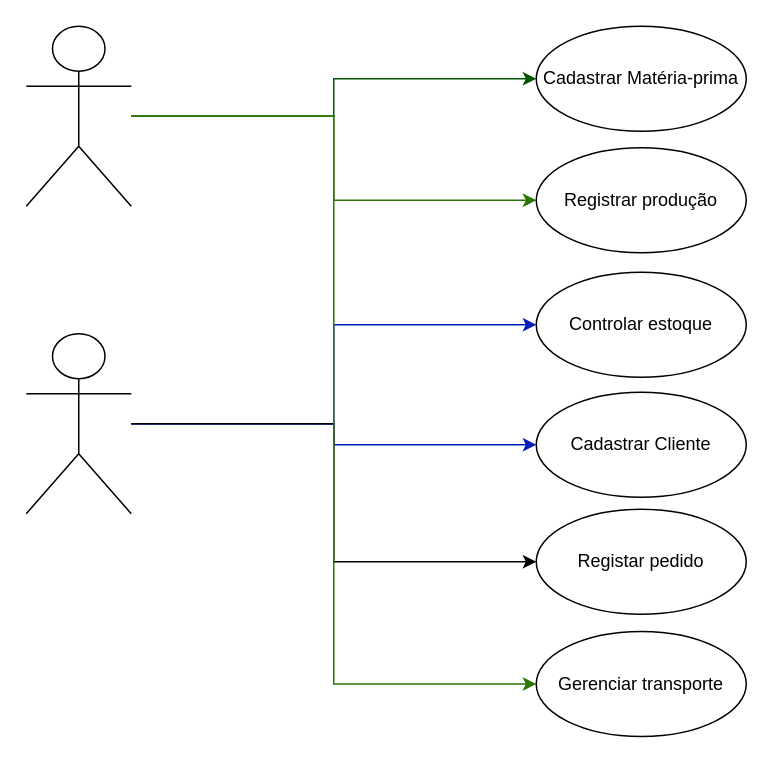
The diagram is 773 pixels wide and 764 high, and some of its shapes have lost their labels. The shapes that lost their labels are listed below. From the top down, each one's box as (x1, y1, x2, y2) in pixels, then its label:
(25, 25, 131, 206): Gerente
(25, 332, 131, 514): Operador
